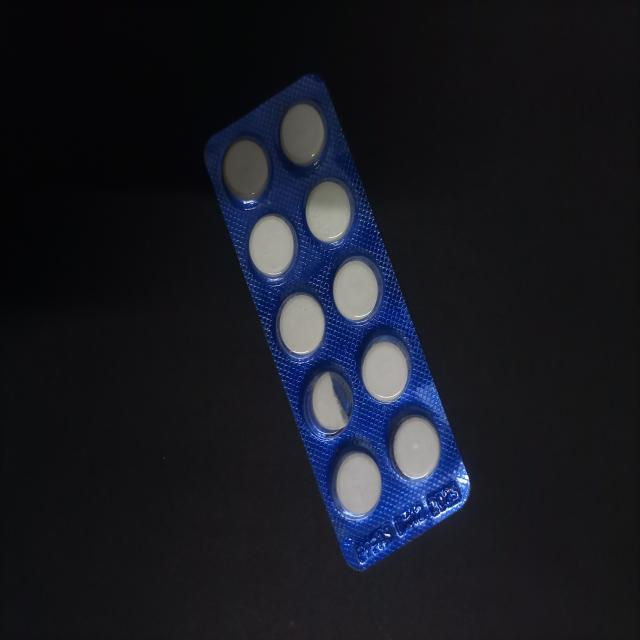defect: (301, 363, 359, 440)
